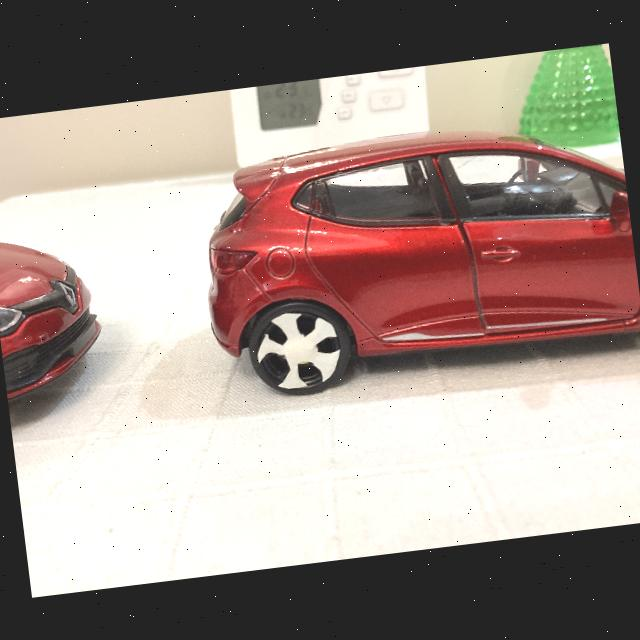Yanlis_Jant: (251, 306, 346, 396)
